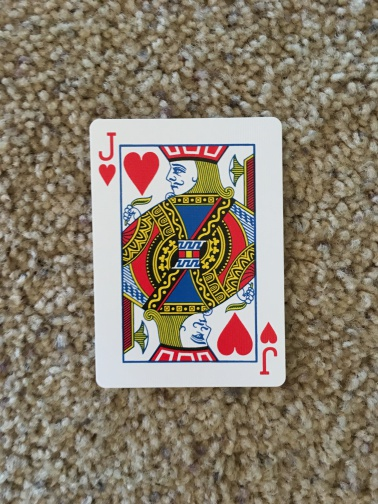jack: (87, 116, 286, 388)
